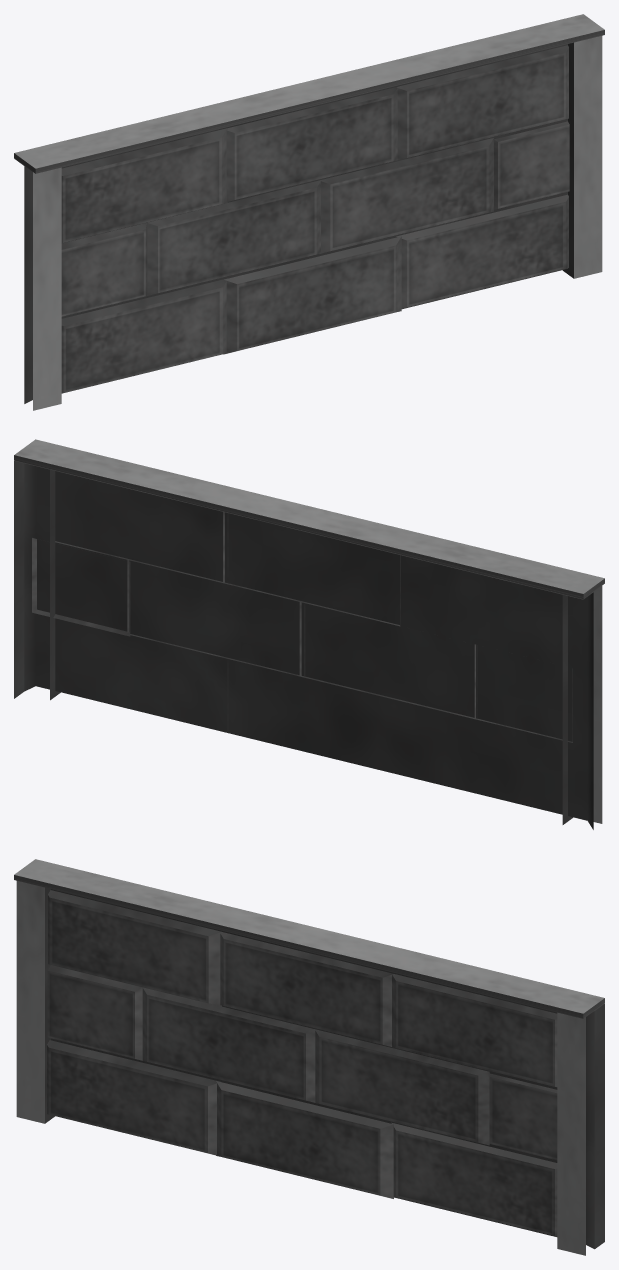
File: Mesh_wall_lower_temple_TL.fbx
The picture shows the model from 3 angles, top to bottom: view 1: azimuth 30°, elevation 25°; view 2: azimuth 150°, elevation 25°; view 3: azimuth 330°, elevation 25°; orthographic projection.
Visible parts, largest first — view 1: Mesh_wall_lower_temple_TL; view 2: Mesh_wall_lower_temple_TL; view 3: Mesh_wall_lower_temple_TL.
Part boxes in pixels (x1,y1,x2,y2): Mesh_wall_lower_temple_TL: [14, 14, 604, 410]; Mesh_wall_lower_temple_TL: [14, 439, 604, 829]; Mesh_wall_lower_temple_TL: [14, 859, 604, 1255].
Size of the model in its own units: 200 by 81.88 by 13.14.
1 material, 1 textured.
